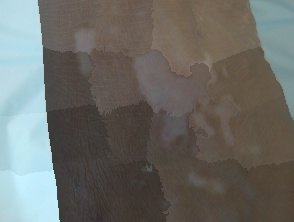vitiligo: (117, 24, 274, 220), (66, 14, 115, 95)
